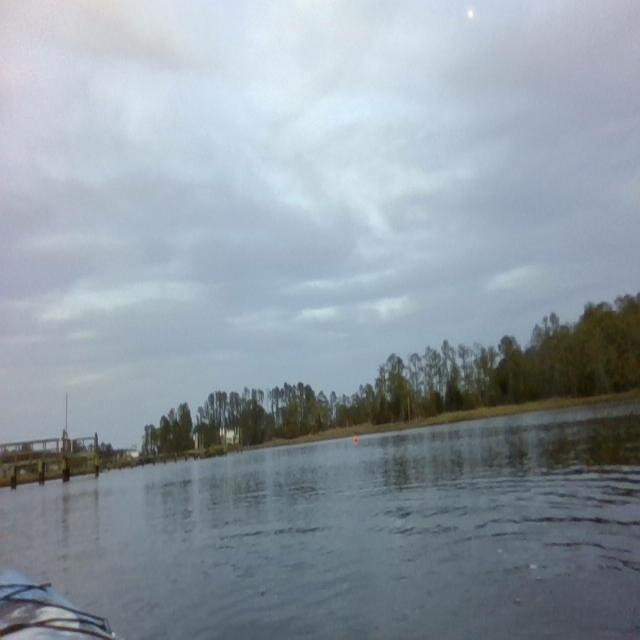Buoy: (352, 432, 360, 444)
